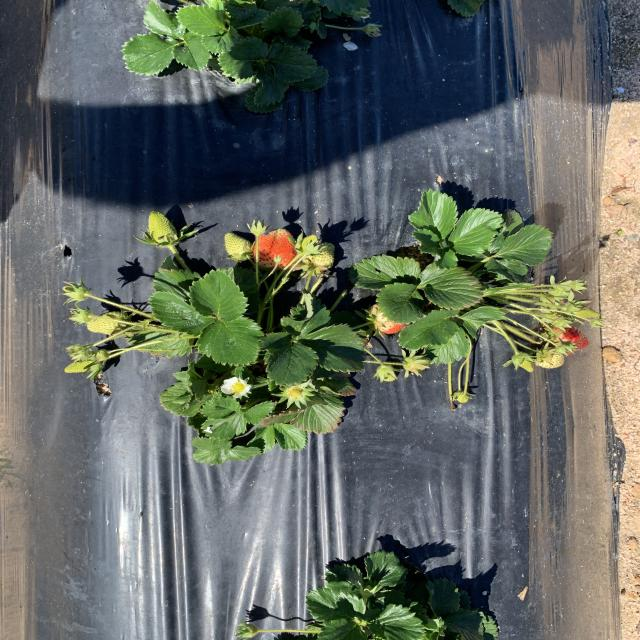unripe: (541, 321, 591, 354)
